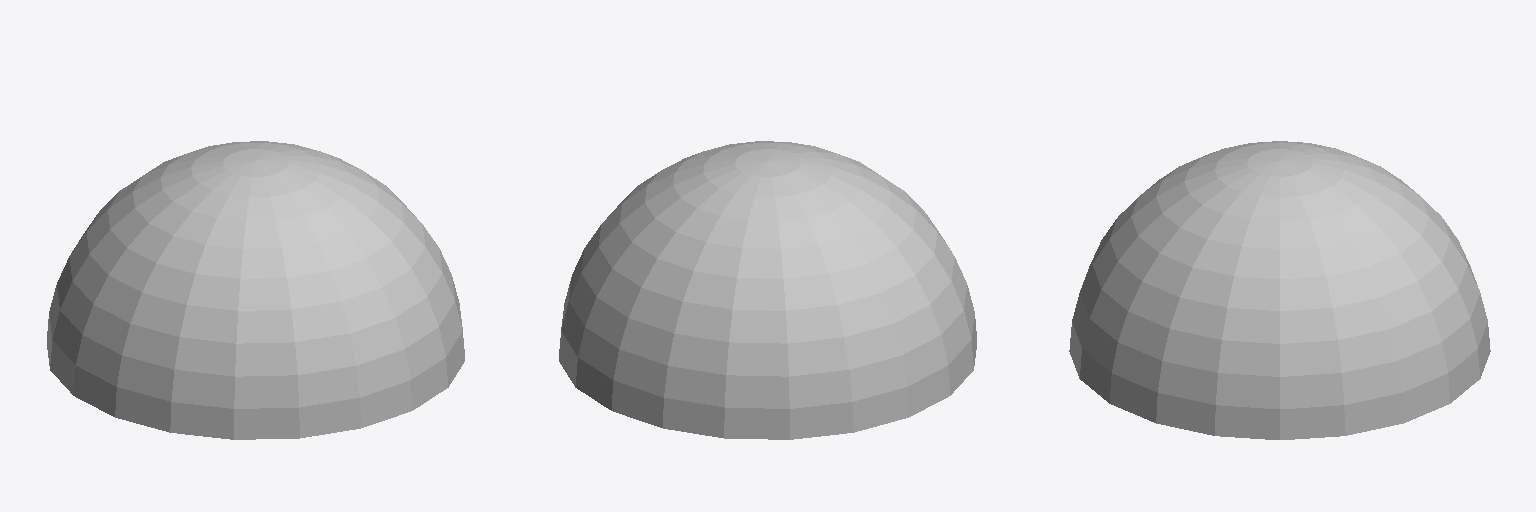
File: Shield.obj
The picture shows the model from 3 angles: view 1: azimuth 30°, elevation 25°; view 2: azimuth 150°, elevation 25°; view 3: azimuth 270°, elevation 25°; orthographic projection.
Parts seen in each view (by area): view 1: Group2; view 2: Group2; view 3: Group2.
Part boxes in pixels (left/top/right/bottom): Group2: left=47, top=141, right=464, bottom=439; Group2: left=559, top=141, right=976, bottom=439; Group2: left=1069, top=141, right=1490, bottom=439.
Bounding box in the file's own units: 2 × 1 × 2.